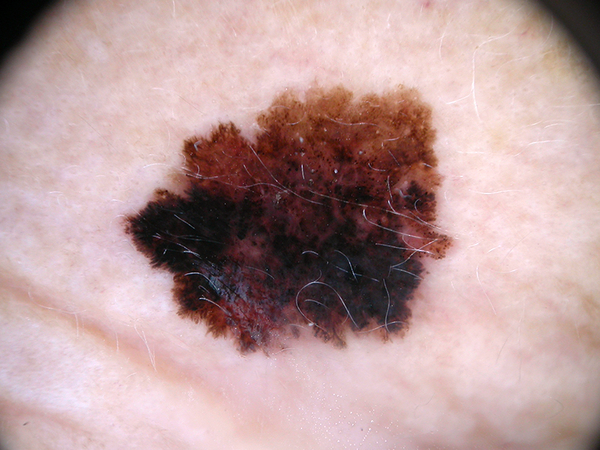Detected Lesion: (118, 78, 460, 360)
